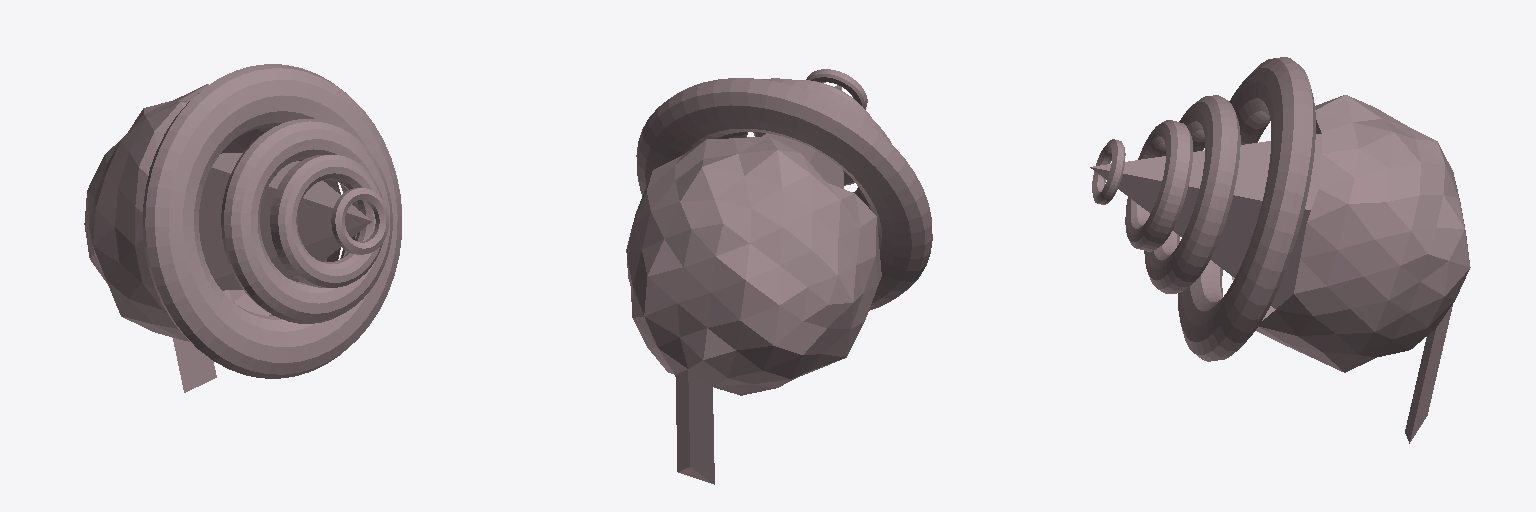
The model's file is RayGun.obj.
3 views of the same model, side by side, from view 1: azimuth 30°, elevation 25°; view 2: azimuth 150°, elevation 25°; view 3: azimuth 270°, elevation 25° (orthographic).
Visible parts, largest first — view 1: Cube.001; view 2: Cube.001; view 3: Cube.001.
Boxes of the visible parts, box(x1,y1,x2,y2) form: Cube.001: box(84, 64, 401, 392); Cube.001: box(626, 69, 932, 484); Cube.001: box(1090, 57, 1470, 443).
Bounding box in the file's own units: 2.27 × 2.91 × 2.78.